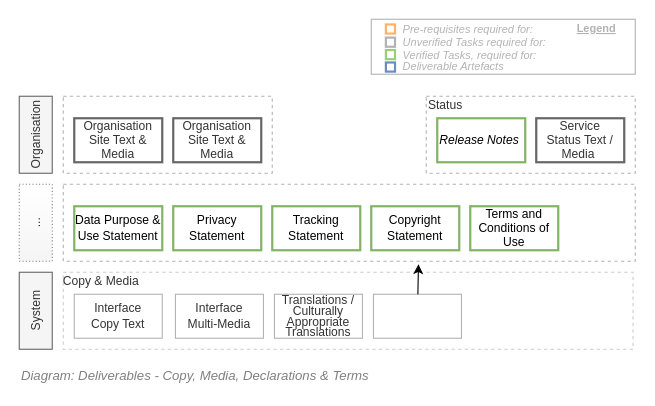
Some shapes in this 655 by 406 pixel diagram are drawn without their labels. The box of each missing label's shape, as (x1, y1, x2, y2) in pixels:
Declarations / Disclosure Statements: (372, 293, 461, 338)
Declarations, Disclosures & Terms: (62, 183, 635, 261)
Organisation Site Information: (62, 95, 272, 173)
